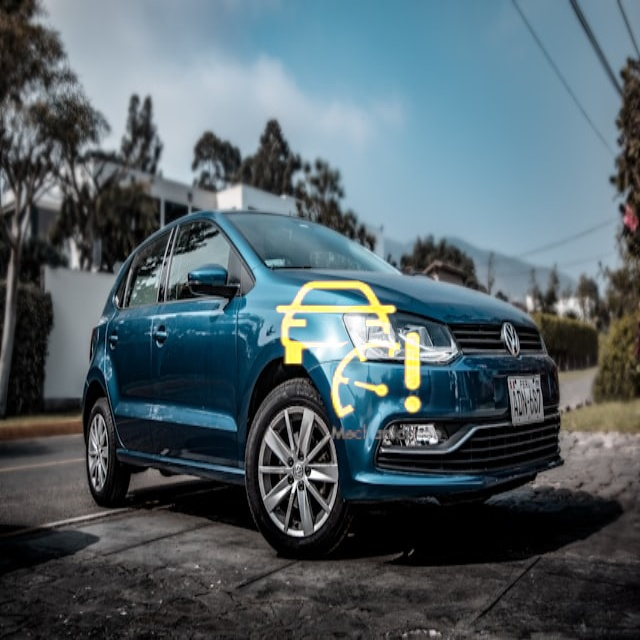symbol: (251, 253, 445, 447)
